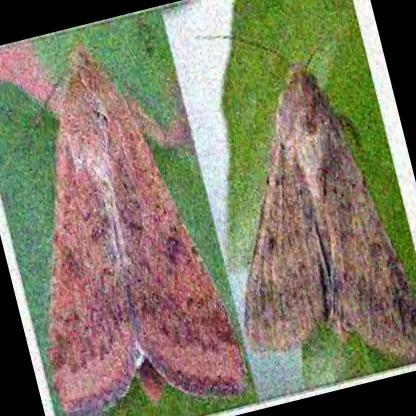helicoverpa: (49, 49, 247, 416), (242, 57, 416, 359)
